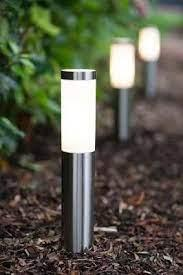Lamp: (56, 64, 102, 262), (105, 33, 141, 144), (133, 22, 168, 105)
